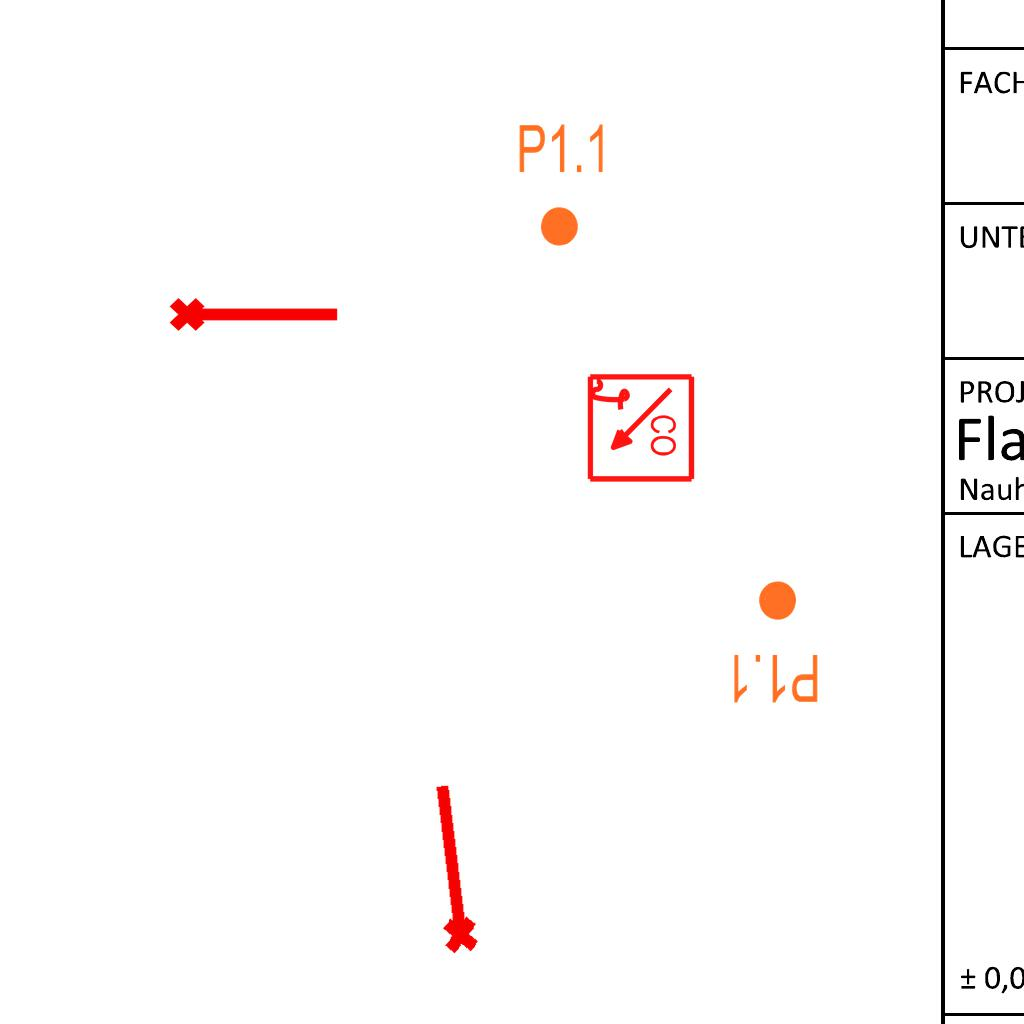ASR_Ansaugoeffnung: (416, 777, 484, 959), (167, 289, 343, 335)
Downlight_LED_Einbauleuchten_Flur: (516, 121, 609, 249), (728, 578, 821, 706)
ROA_Rauchmelder_optisch_mit_Signalgeber_(Sockelsirene): (583, 372, 696, 485)
